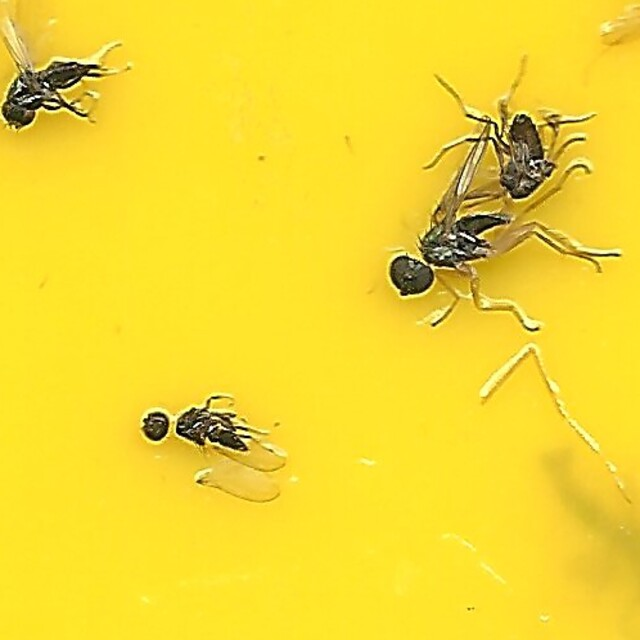Brachycera: (383, 134, 511, 312), (129, 403, 288, 506)
